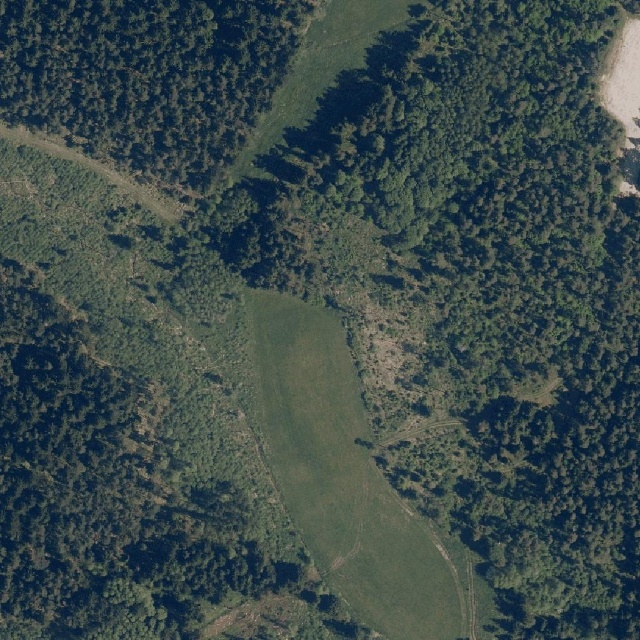vegetation: (162, 0, 640, 640), (0, 262, 379, 640)
